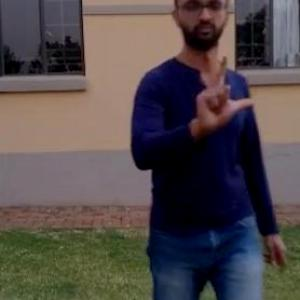land_hand: (183, 45, 258, 135)
